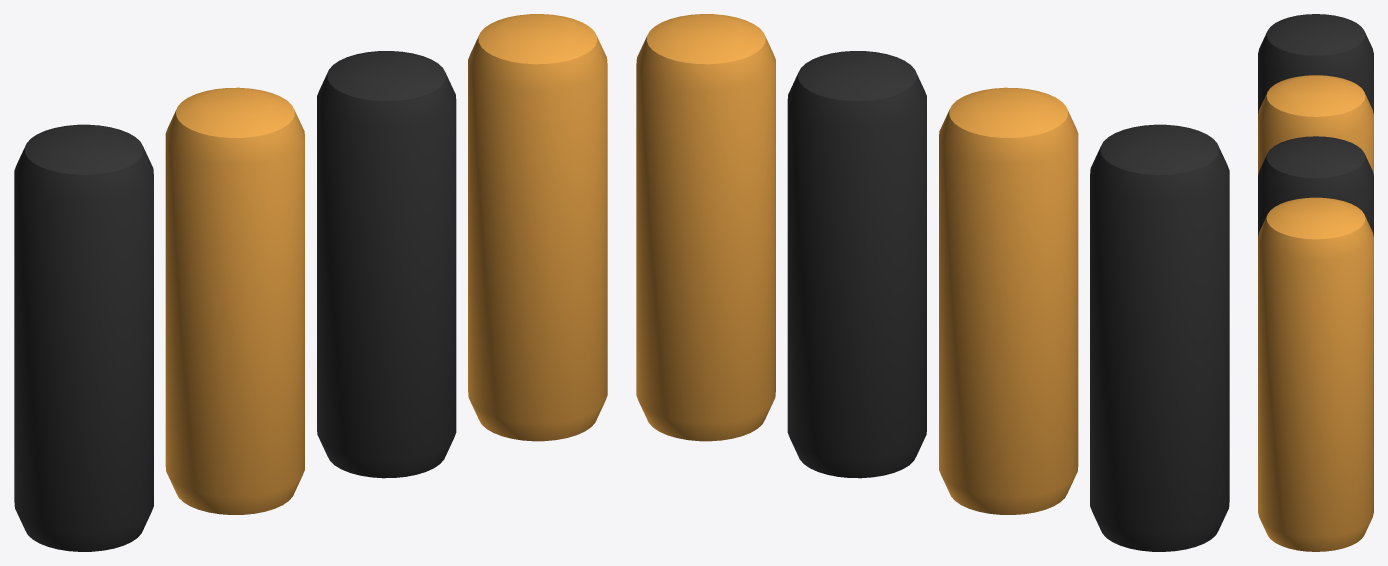
Rendered from batteries.glb.
3 renders of one model, left to right at view 1: azimuth 30°, elevation 25°; view 2: azimuth 150°, elevation 25°; view 3: azimuth 270°, elevation 25°, orthographic. The views are drawn at different scales.
Parts seen in each view (by area): view 1: b0, b3, b1, b2; view 2: b0, b3, b1, b2; view 3: b3, b1, b2, b0.
Part boxes in pixels (box(x1,y1,x2,y2)): b0: box(14, 124, 153, 551); b3: box(468, 14, 607, 441); b1: box(165, 87, 304, 514); b2: box(317, 51, 456, 478); b0: box(1090, 124, 1229, 551); b3: box(636, 14, 775, 441); b1: box(939, 87, 1078, 514); b2: box(787, 51, 926, 478); b3: box(1258, 197, 1373, 551); b1: box(1258, 75, 1373, 174); b2: box(1258, 136, 1373, 236); b0: box(1258, 14, 1373, 113).
Size of the model in its own units: 0.076 by 0.05 by 0.016.
